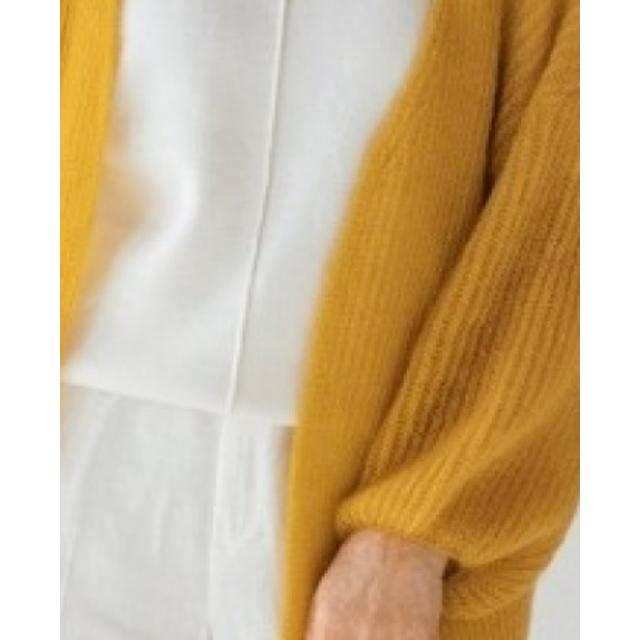silk: (135, 0, 307, 418)
